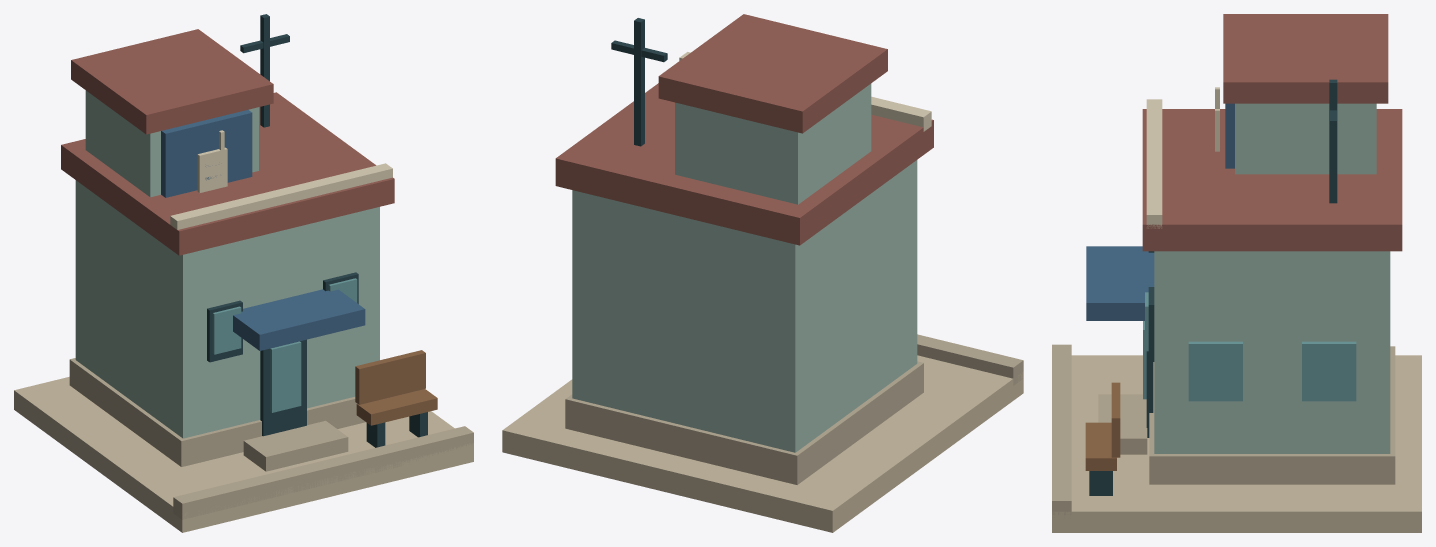
Rendered from police-station-seabreeze-complete.glb.
3 renders of one model, left to right at view 1: azimuth 30°, elevation 25°; view 2: azimuth 150°, elevation 25°; view 3: azimuth 270°, elevation 25°, orthographic. The views are drawn at different scales.
Visible parts, largest first — view 1: police-station; view 2: police-station; view 3: police-station.
Part boxes in pixels (x1=…): police-station: x1=14, y1=14, x2=473, y2=532; police-station: x1=502, y1=14, x2=1023, y2=532; police-station: x1=1052, y1=14, x2=1421, y2=532.
Size of the model in its own units: 1.88 by 2.29 by 1.88.
